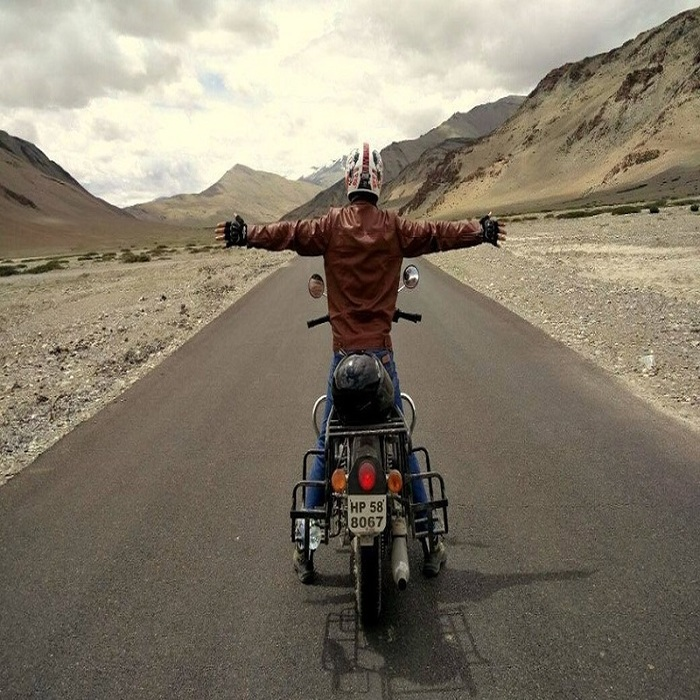h: (342, 140, 384, 202)
n: (344, 491, 389, 537)
